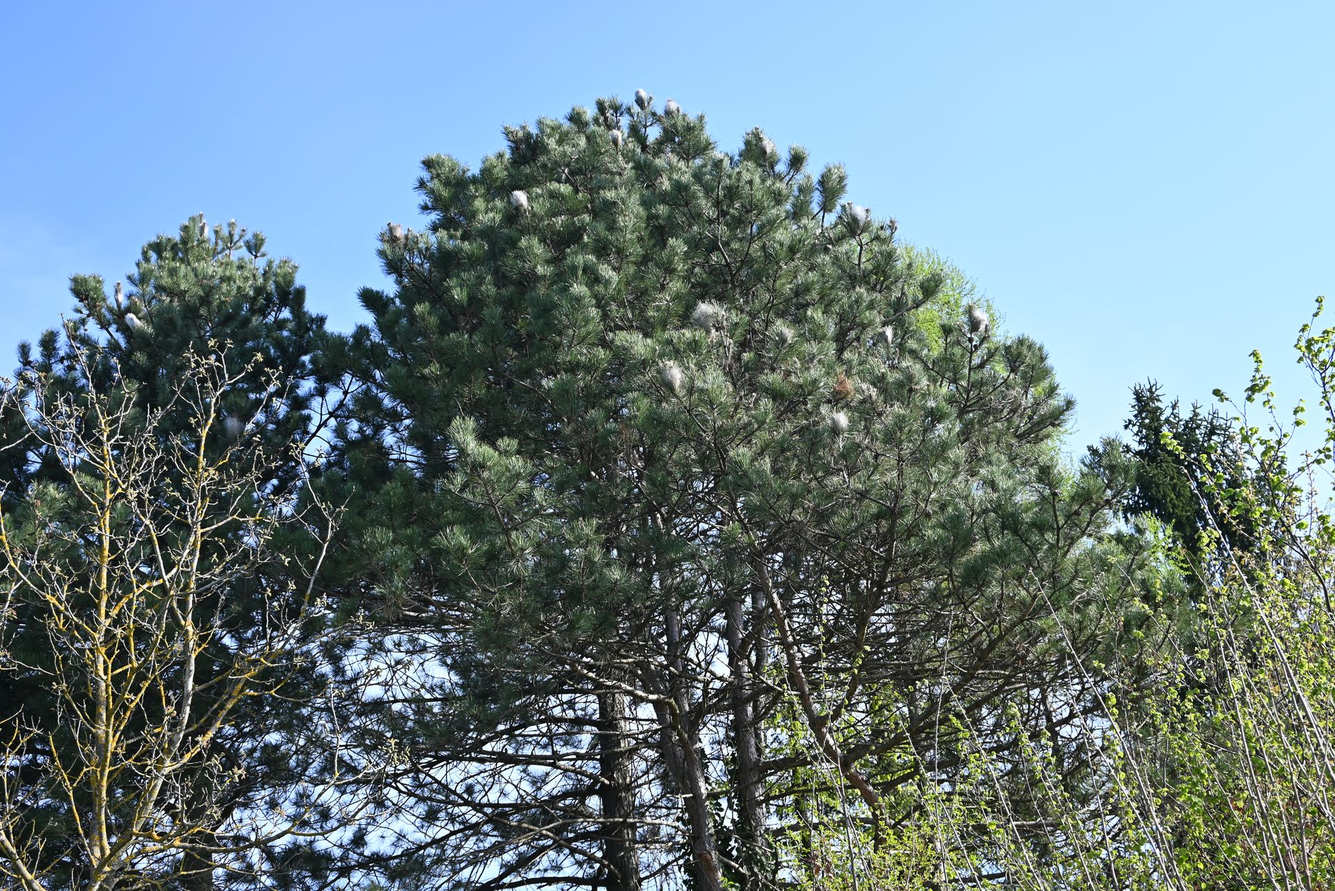thaumatopoea pityocampa jajno gnijezdo: (659, 358, 689, 396), (118, 311, 154, 339), (692, 303, 726, 325), (828, 406, 852, 436), (848, 204, 872, 232), (755, 132, 777, 160), (382, 222, 405, 248), (971, 307, 993, 332), (510, 188, 533, 210), (632, 89, 654, 111), (663, 99, 683, 120), (113, 283, 123, 306)
